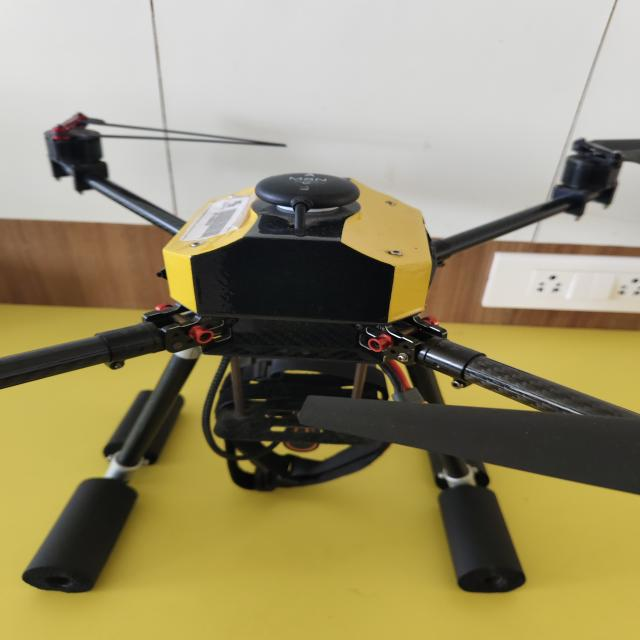quadcopter: (2, 101, 640, 602)
